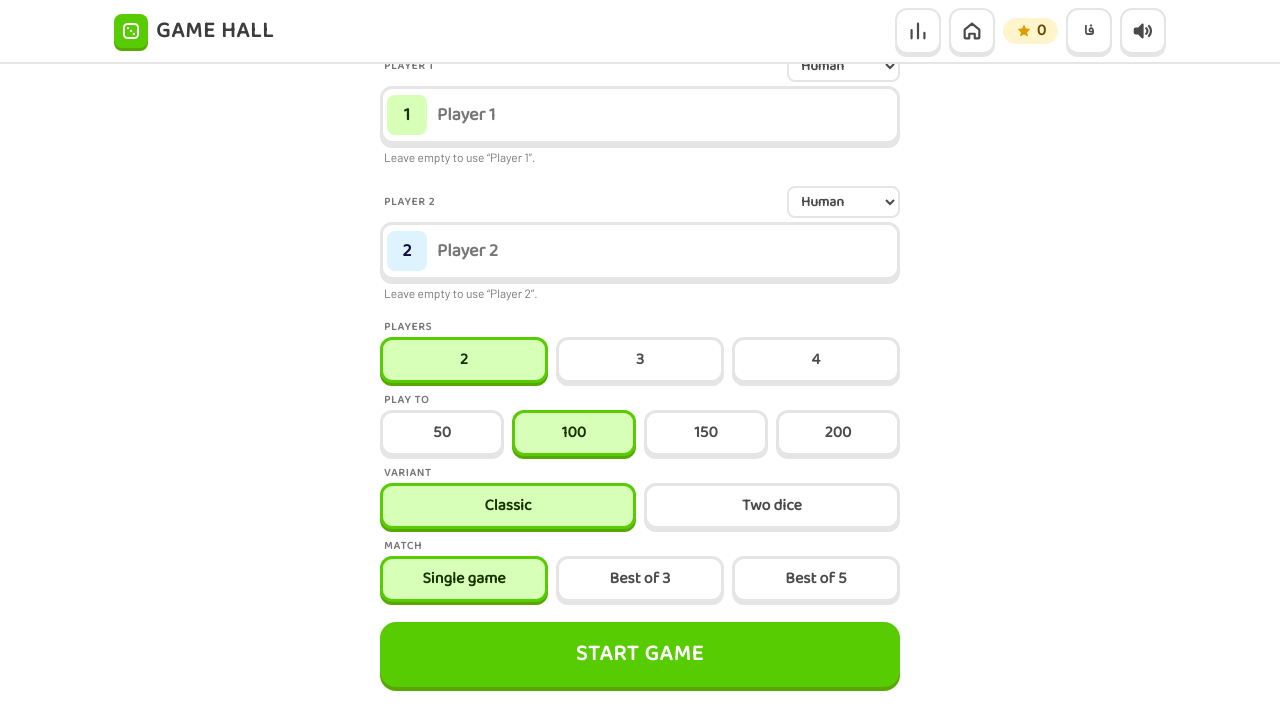
Test: game settings UI › shows more name fields for more players and starts a 3-player game
(page scrolled)
Expected: the field labelled "Player 3" is not shown
Step 1. Click the radio button labelled "3" → (640, 360), box [556,337,724,383]
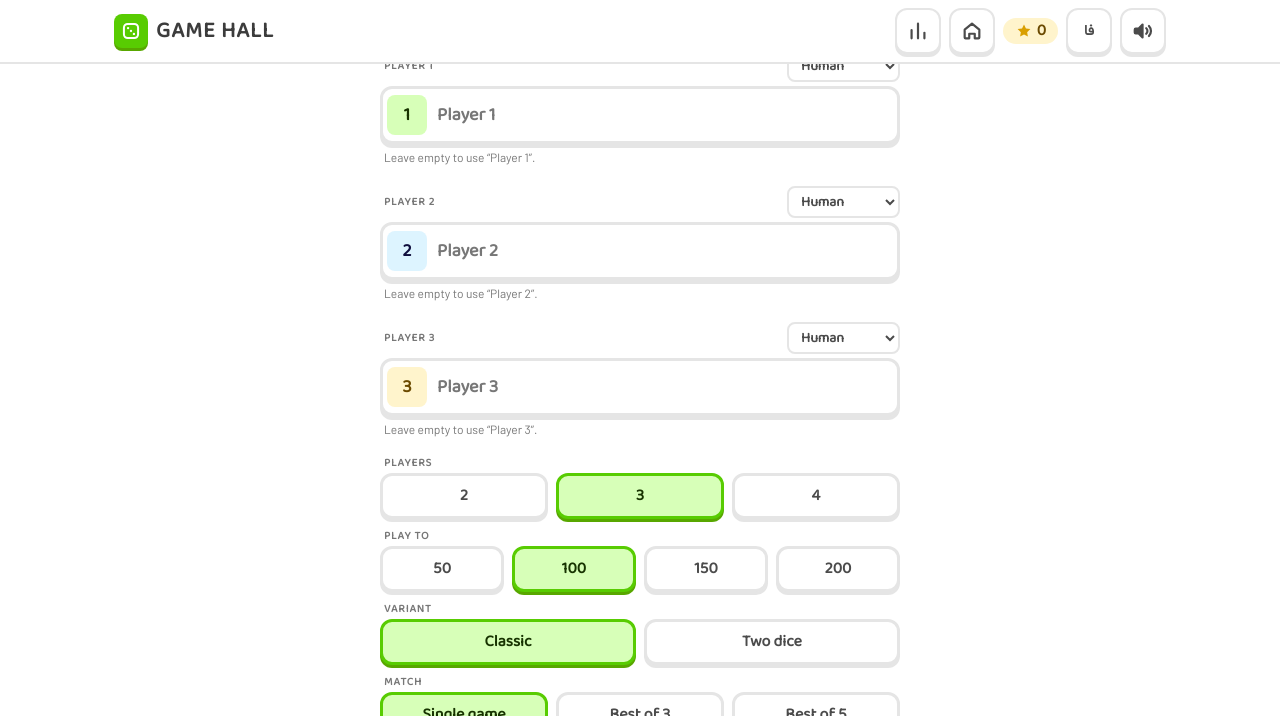
Expected: the field labelled "Player 3" is shown
Step 2. Type "Kai" into the field labelled "Player 3" → (664, 387), box [435,365,893,409]
(page scrolled)
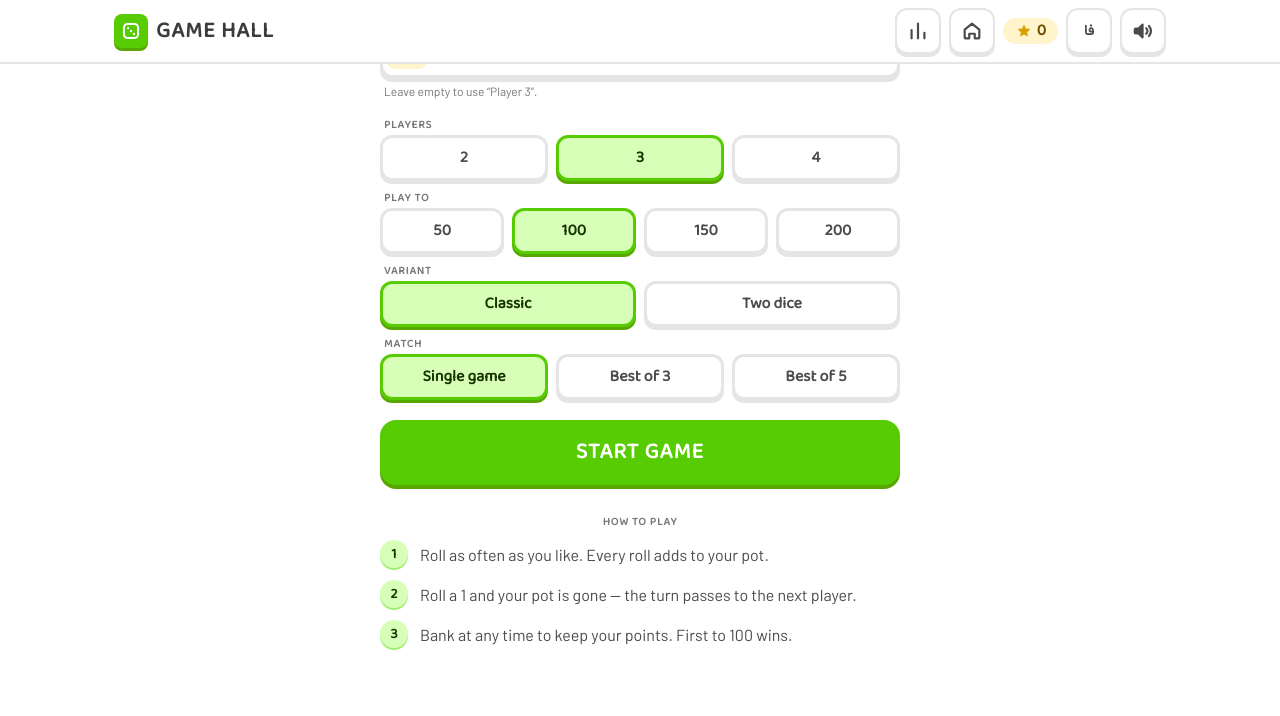
Step 3. Click the button "Start game" → (640, 453), box [380,420,900,485]
(page scrolled)
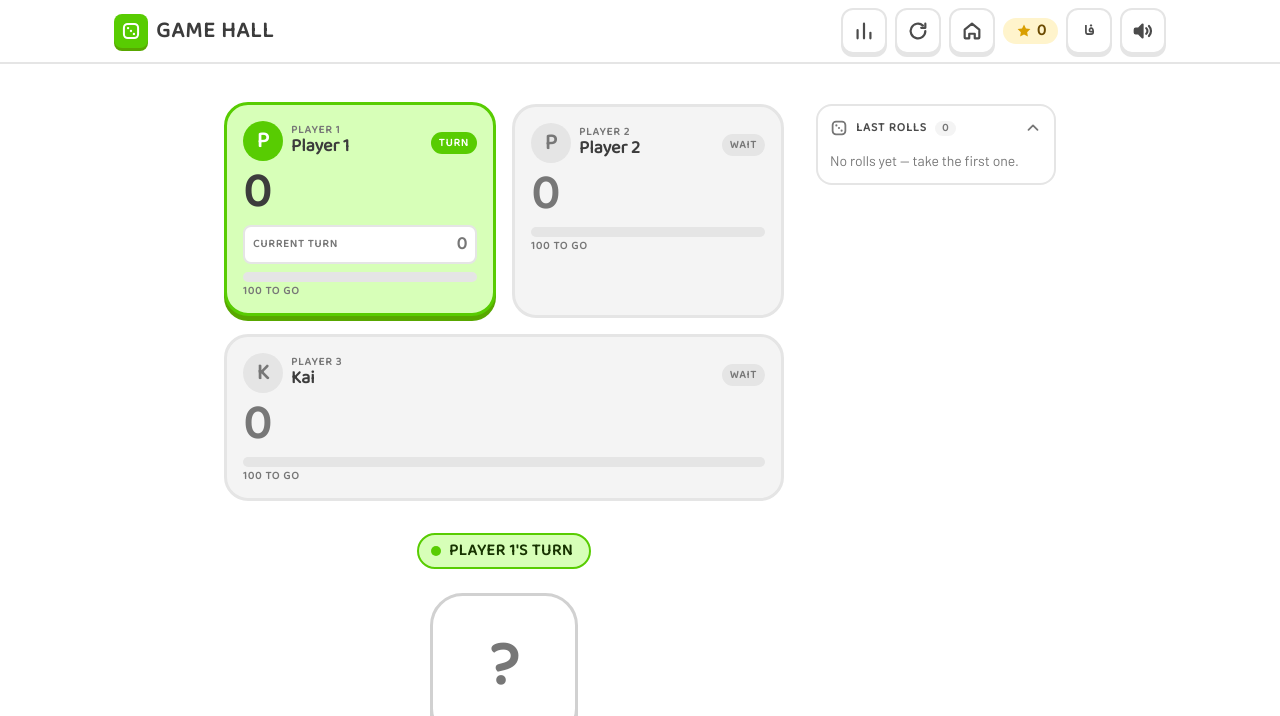
Expected: the element named "Kai, 0 points" is shown, [224,334,784,501]
Expected: the element named "Player 2, 0 points" is shown, [512,104,784,318]
